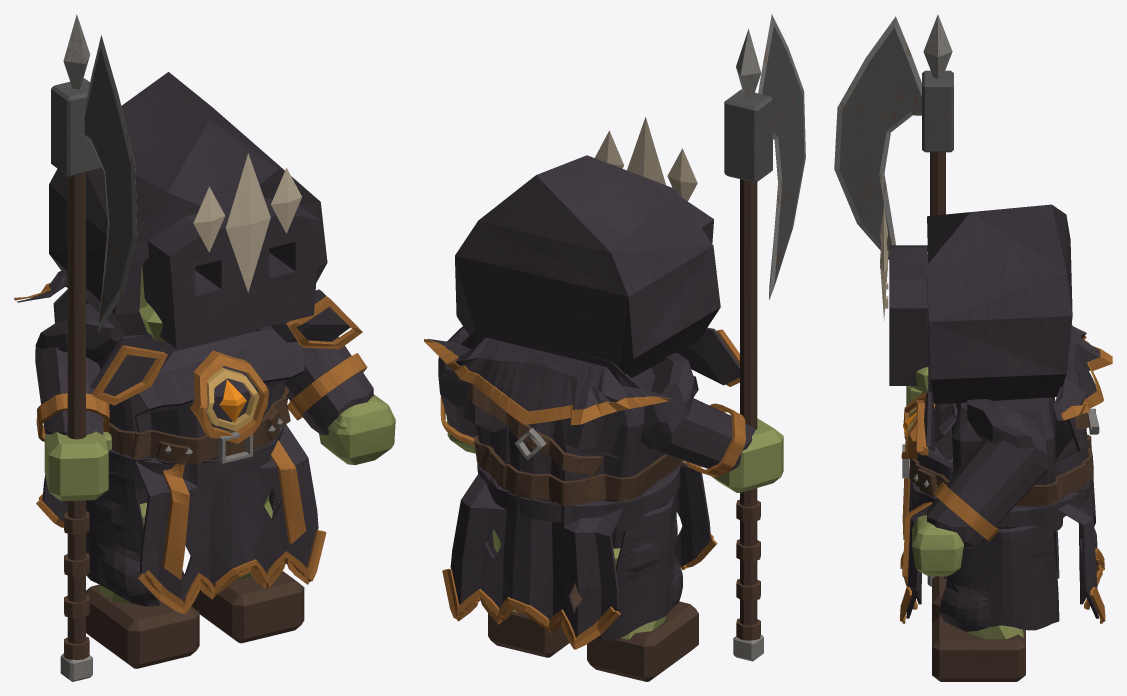
The model's file is host_44.glb.
3 renders of one model, left to right at view 1: azimuth 30°, elevation 25°; view 2: azimuth 150°, elevation 25°; view 3: azimuth 270°, elevation 25°, orthographic. The views are drawn at different scales.
Parts seen in each view (by area): view 1: Source complete coherent jagged ash robe FRONT, Pointed brown hood - hollow outer cloth, Actual ash pointed full face mask, RIGHT actual broad volumetric swept executioner axe, RIGHT source longaxe full actual handle, RIGHT source planted boot, Source44 complete descending RIGHT coat side cloth, LEFT source planted boot, RIGHT hollow outer cloth, Source broad ash brown studded waist, RIGHT real compact source grasp source compact planar grasp, LEFT compact curled source fist (+24 smaller); view 2: Pointed brown hood - hollow outer cloth, Source complete coherent jagged ash robe BACK, Actual source44 continuous rear shoulder cloth chevron, RIGHT hollow outer cloth, RIGHT actual broad volumetric swept executioner axe, Source44 complete descending RIGHT coat side cloth, RIGHT source longaxe full actual handle, Source broad ash brown studded waist, RIGHT source planted boot, Source fitted ragged hem, Source actual steel heavy axe root socket, Source44 broad continuous copper rear shoulder chevron borde (+13 smaller); view 3: Pointed brown hood - hollow outer cloth, RIGHT actual broad volumetric swept executioner axe, Source44 complete descending LEFT coat side cloth, LEFT hollow outer cloth, Actual ash pointed full face mask, LEFT source planted boot, Source complete coherent jagged ash robe BACK, Source connected torso mass, Source fitted ragged hem, Source complete coherent jagged ash robe FRONT, Source actual steel heavy axe root socket, Source broad ash brown studded waist (+13 smaller).
Part boxes in pixels (left/top/right/bottom): Source complete coherent jagged ash robe FRONT: left=134, top=326, right=318, bottom=601; Pointed brown hood - hollow outer cloth: left=49, top=72, right=327, bottom=339; Actual ash pointed full face mask: left=142, top=198, right=320, bottom=348; RIGHT actual broad volumetric swept executioner axe: left=84, top=35, right=137, bottom=331; RIGHT source longaxe full actual handle: left=67, top=173, right=85, bottom=644; RIGHT source planted boot: left=86, top=584, right=199, bottom=668; Source44 complete descending RIGHT coat side cloth: left=86, top=481, right=159, bottom=606; LEFT source planted boot: left=191, top=571, right=304, bottom=643; RIGHT hollow outer cloth: left=35, top=316, right=122, bottom=435; Source broad ash brown studded waist: left=103, top=386, right=290, bottom=464; RIGHT real compact source grasp source compact planar grasp: left=44, top=431, right=111, bottom=501; LEFT compact curled source fist: left=319, top=394, right=395, bottom=465; Pointed brown hood - hollow outer cloth: left=455, top=155, right=720, bottom=378; Source complete coherent jagged ash robe BACK: left=450, top=381, right=625, bottom=637; Actual source44 continuous rear shoulder cloth chevron: left=427, top=330, right=671, bottom=411; RIGHT hollow outer cloth: left=640, top=353, right=754, bottom=472; RIGHT actual broad volumetric swept executioner axe: left=758, top=14, right=805, bottom=299; Source44 complete descending RIGHT coat side cloth: left=599, top=496, right=682, bottom=640; RIGHT source longaxe full actual handle: left=740, top=179, right=757, bottom=625; Source broad ash brown studded waist: left=474, top=435, right=681, bottom=505; RIGHT source planted boot: left=587, top=601, right=698, bottom=681; Source fitted ragged hem: left=477, top=460, right=682, bottom=532; Source actual steel heavy axe root socket: left=724, top=89, right=772, bottom=182; Source44 broad continuous copper rear shoulder chevron borde: left=424, top=339, right=669, bottom=425; Pointed brown hood - hollow outer cloth: left=926, top=204, right=1072, bottom=404; RIGHT actual broad volumetric swept executioner axe: left=834, top=16, right=921, bottom=259; Source44 complete descending LEFT coat side cloth: left=939, top=532, right=1059, bottom=631; LEFT hollow outer cloth: left=927, top=399, right=1047, bottom=548; Actual ash pointed full face mask: left=889, top=245, right=928, bottom=385; LEFT source planted boot: left=932, top=616, right=1025, bottom=681; Source complete coherent jagged ash robe BACK: left=1055, top=413, right=1098, bottom=618; Source connected torso mass: left=952, top=397, right=1055, bottom=536; Source fitted ragged hem: left=911, top=450, right=1091, bottom=539; Source complete coherent jagged ash robe FRONT: left=906, top=391, right=957, bottom=618; Source actual steel heavy axe root socket: left=922, top=70, right=953, bottom=152; Source broad ash brown studded waist: left=909, top=434, right=1093, bottom=505.
Size of the model in its own units: 1.25 by 2.36 by 1.04.
Materials: 11 (9 with a texture image).
